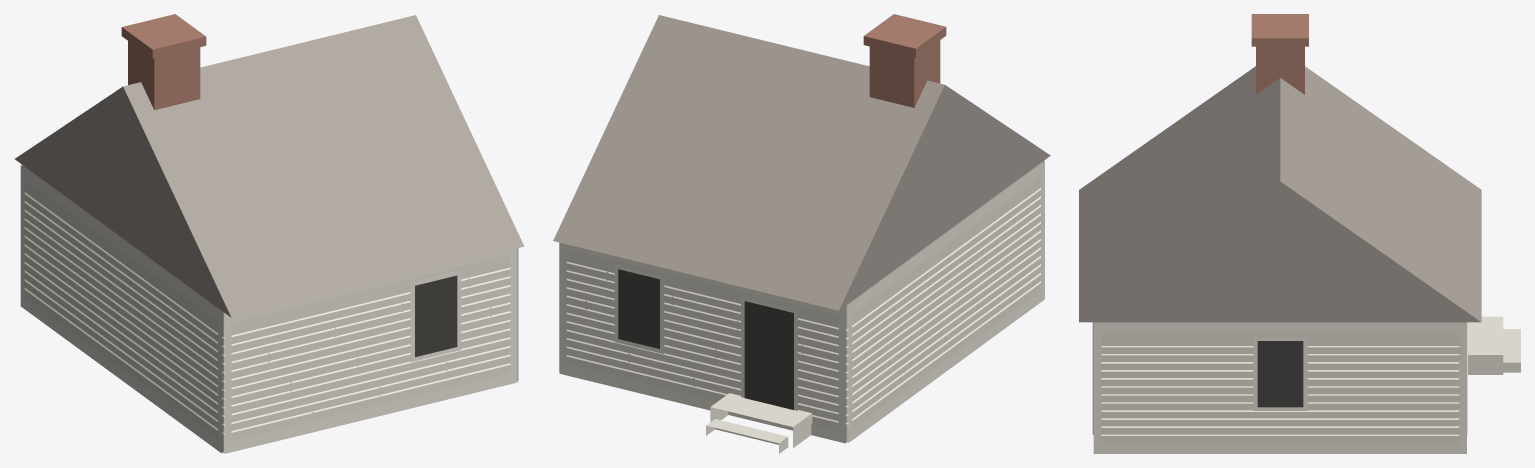
File: recon_1835_blk_south_water_dearborn_d3_03__inferred_1835.glb
The picture shows the model from 3 angles, left to right: view 1: azimuth 30°, elevation 25°; view 2: azimuth 150°, elevation 25°; view 3: azimuth 270°, elevation 25°; orthographic projection. The views are drawn at different scales.
Parts seen in each view (by area): view 1: recon_1835_blk_south_water_dearborn_d3_03__inferred_1835; view 2: recon_1835_blk_south_water_dearborn_d3_03__inferred_1835; view 3: recon_1835_blk_south_water_dearborn_d3_03__inferred_1835.
Boxes of the visible parts, box(x1,y1,x2,y2) form: recon_1835_blk_south_water_dearborn_d3_03__inferred_1835: box(15, 14, 524, 453); recon_1835_blk_south_water_dearborn_d3_03__inferred_1835: box(553, 14, 1050, 453); recon_1835_blk_south_water_dearborn_d3_03__inferred_1835: box(1079, 14, 1520, 453).
Bounding box in the file's own units: 5.44 × 5.91 × 7.55.
